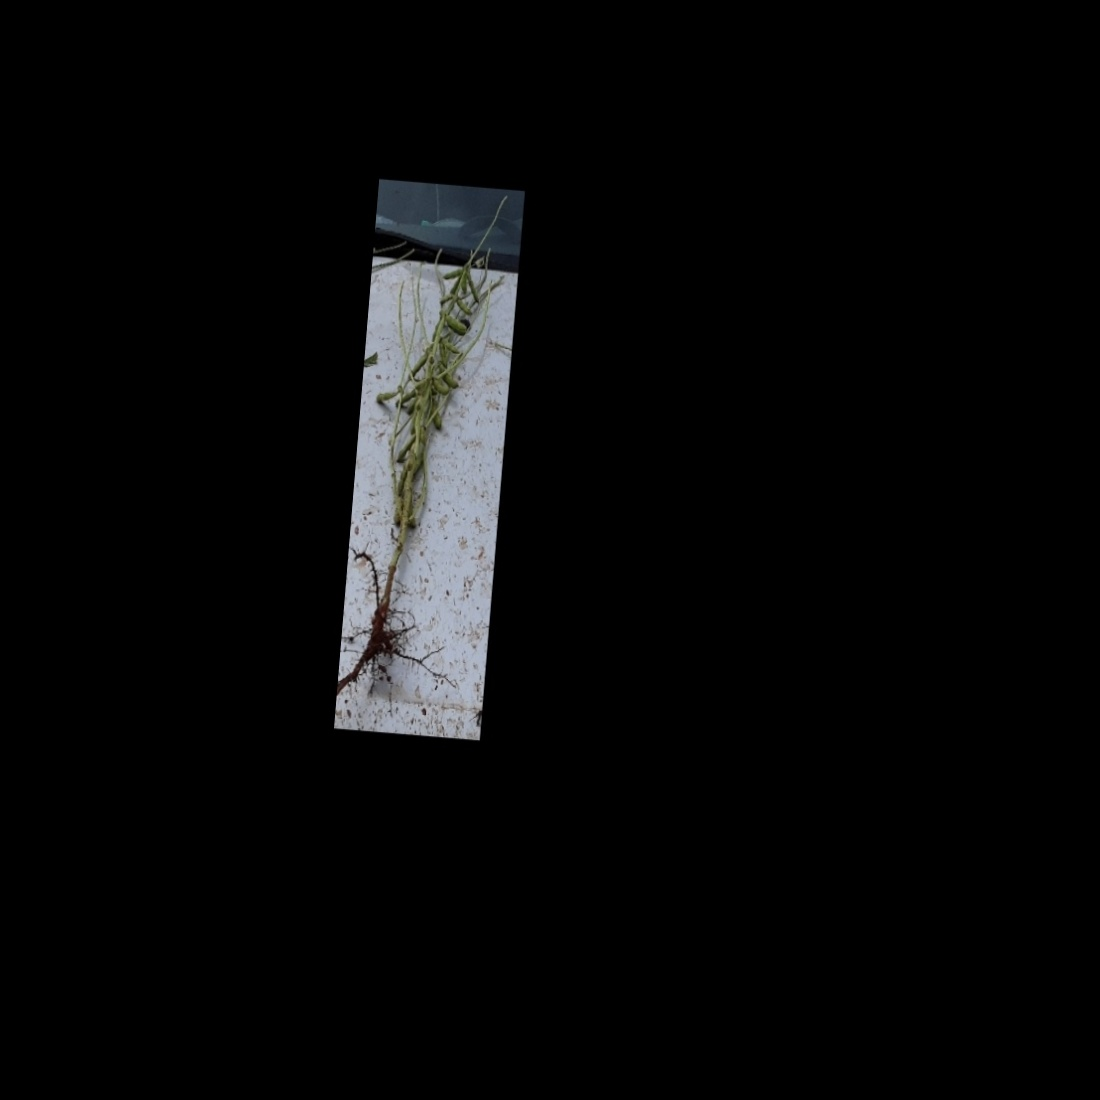pod: (393, 429, 418, 465), (462, 266, 484, 307), (391, 457, 411, 498), (442, 312, 471, 339), (429, 374, 453, 401), (439, 336, 465, 361), (441, 264, 468, 285)
soy: (345, 237, 515, 686)
